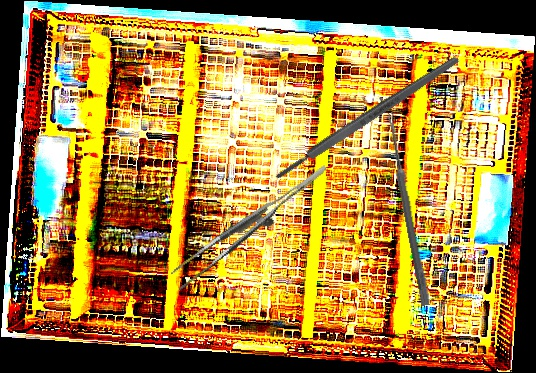Scalpel Handle: (271, 53, 463, 183)
Surgical Spoon: (384, 111, 432, 307)
Tissue Forceps: (160, 164, 344, 291)
